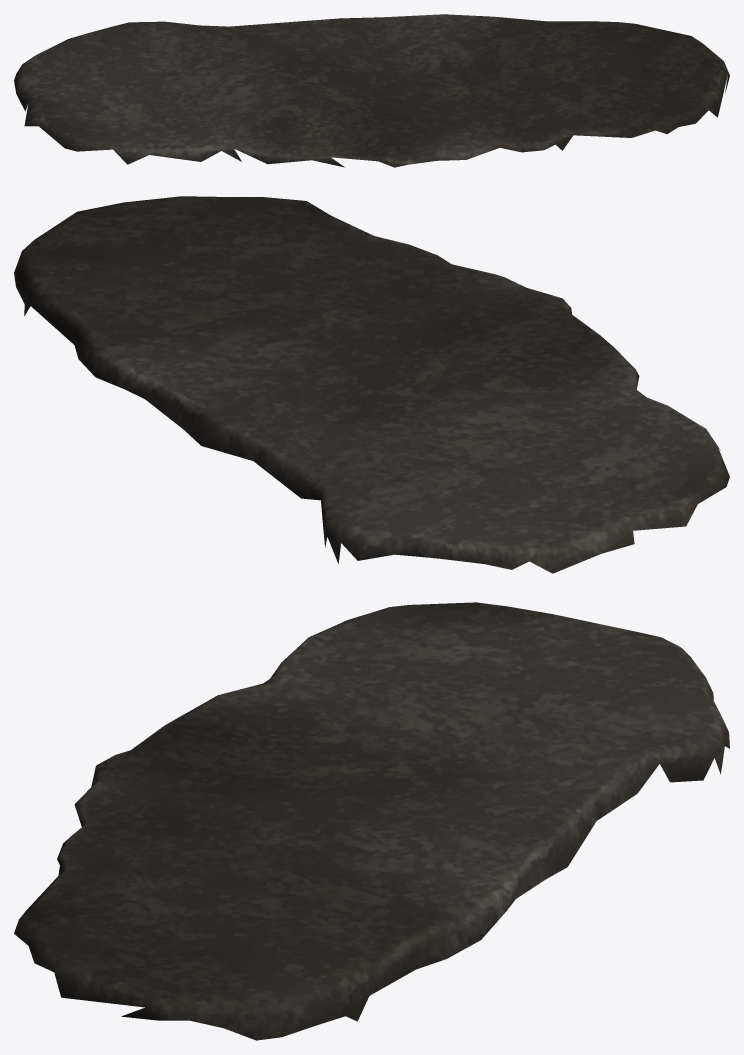
Rendered from platform5collider1.fbx.
3 views of the same model, one above another, from view 1: azimuth 30°, elevation 25°; view 2: azimuth 150°, elevation 25°; view 3: azimuth 270°, elevation 25° (orthographic). The views are drawn at different scales.
Visible parts, largest first — view 1: platform5collider1; view 2: platform5collider1; view 3: platform5collider1.
Boxes of the visible parts, <box> form: platform5collider1: <box>14,14,729,167</box>; platform5collider1: <box>14,196,729,573</box>; platform5collider1: <box>14,602,729,1040</box>.
Size of the model in its own units: 4590 by 252 by 3358.
